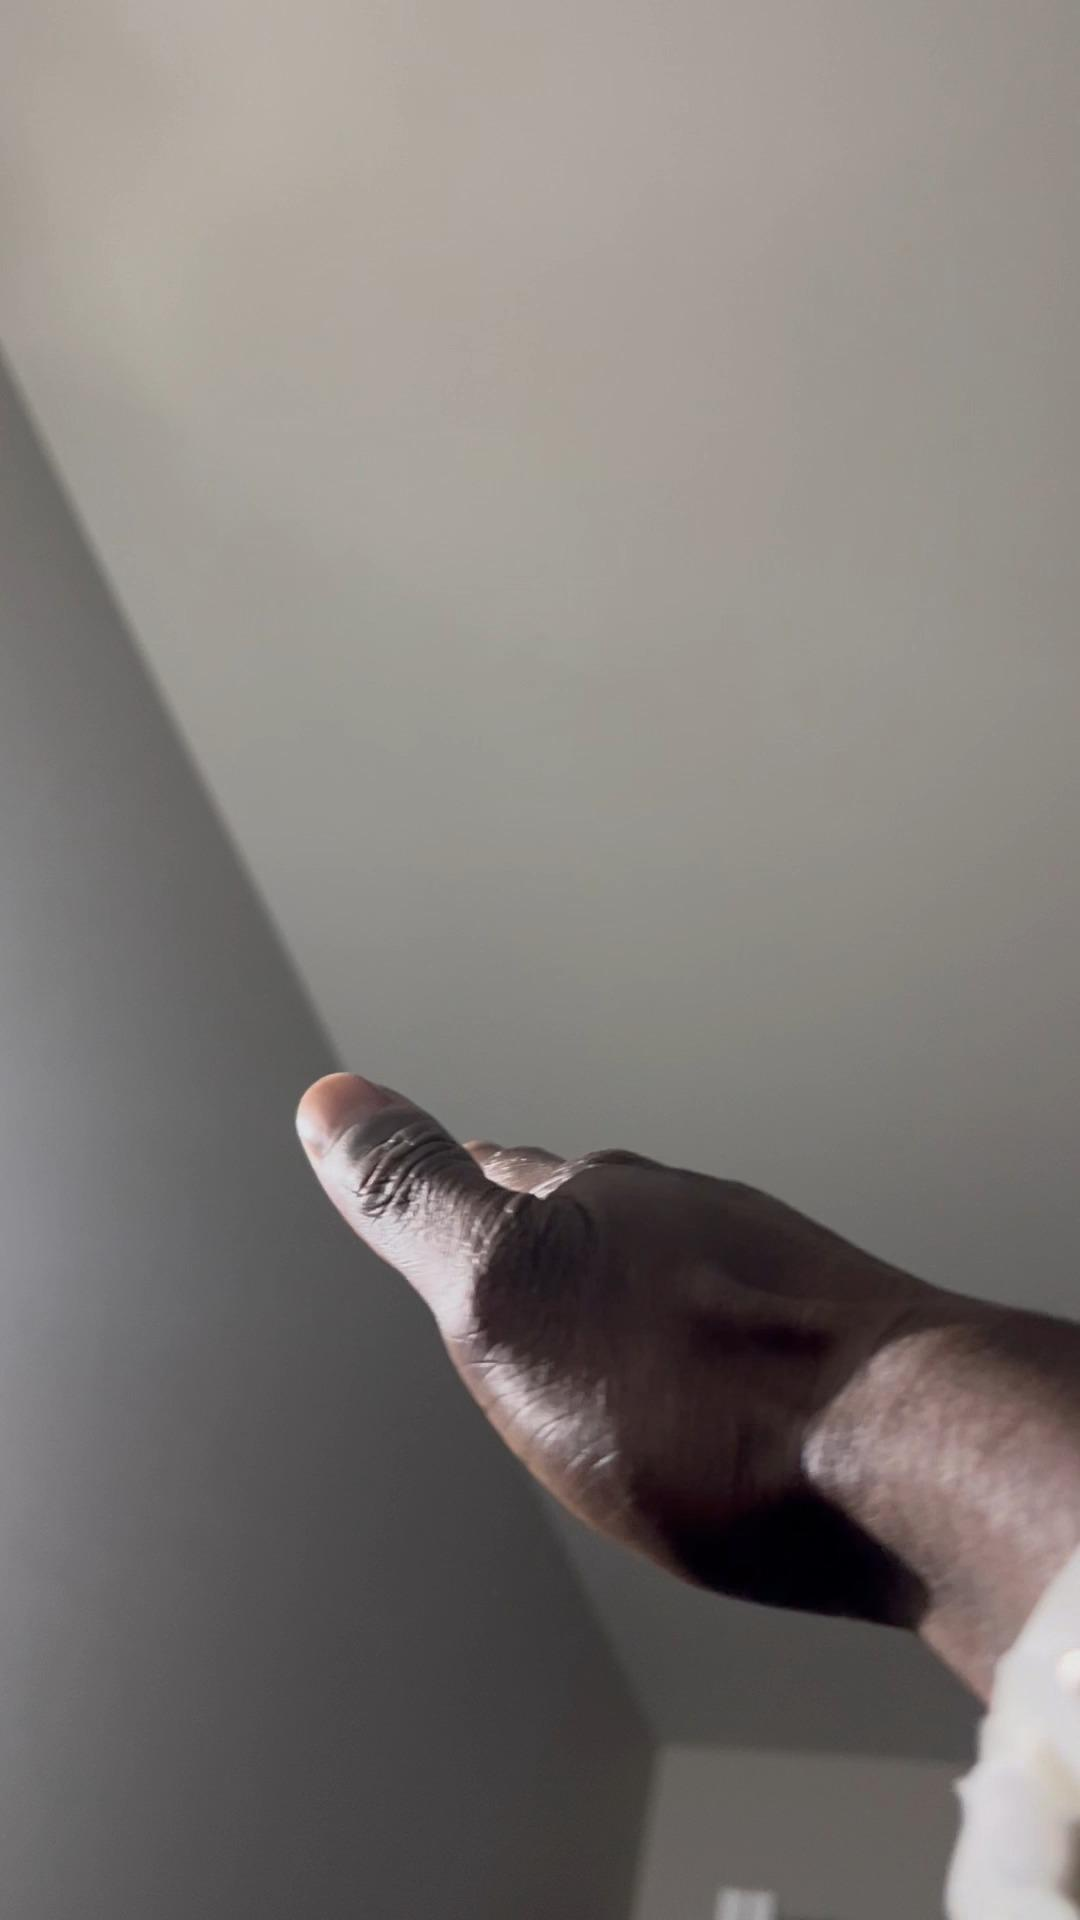Paper: (297, 1067, 956, 1647)
